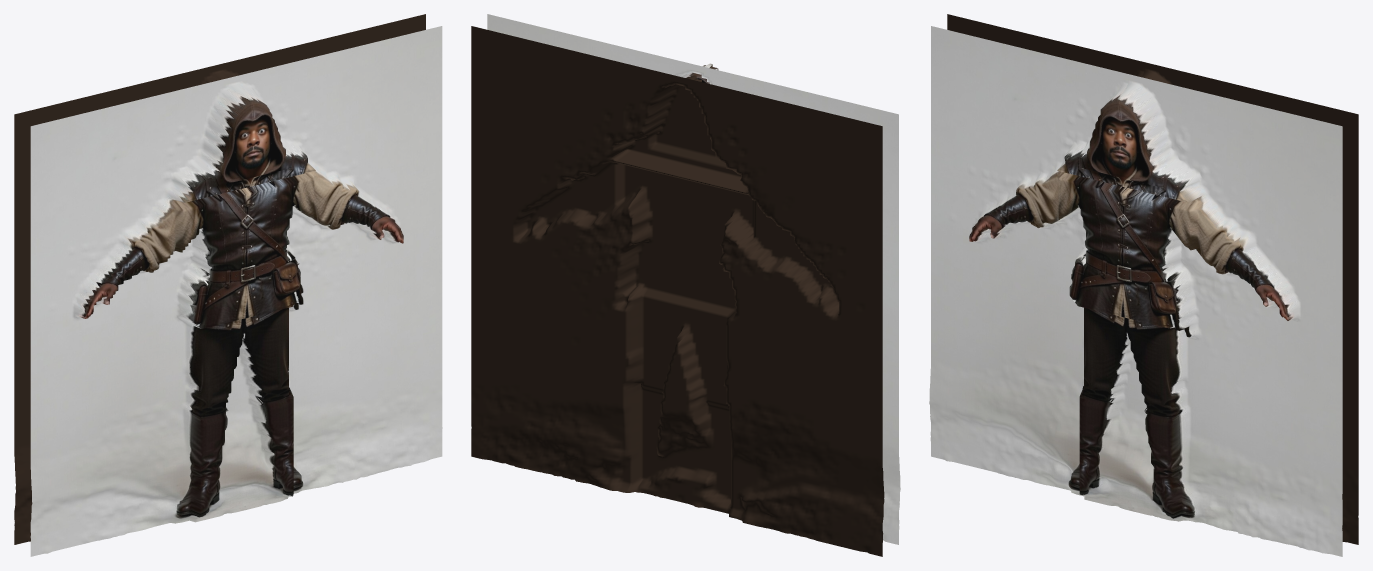
The model's file is nego_thief_realistic_relief.glb.
The picture shows the model from 3 angles, left to right: view 1: azimuth 30°, elevation 25°; view 2: azimuth 150°, elevation 25°; view 3: azimuth 330°, elevation 25°; orthographic projection.
Parts seen in each view (by area): view 1: NegoThief realistic relief front, NegoThief relief back thickness; view 2: NegoThief relief back thickness, NegoThief realistic relief front; view 3: NegoThief realistic relief front, NegoThief relief back thickness.
Boxes of the visible parts, <box> form: NegoThief realistic relief front: <box>30,26,442,556</box>; NegoThief relief back thickness: <box>14,14,425,544</box>; NegoThief relief back thickness: <box>471,26,884,556</box>; NegoThief realistic relief front: <box>487,14,900,544</box>; NegoThief realistic relief front: <box>929,26,1342,556</box>; NegoThief relief back thickness: <box>947,14,1358,544</box>.
Size of the model in its own units: 2.05 by 2.05 by 0.285.
2 materials, 1 textured.
